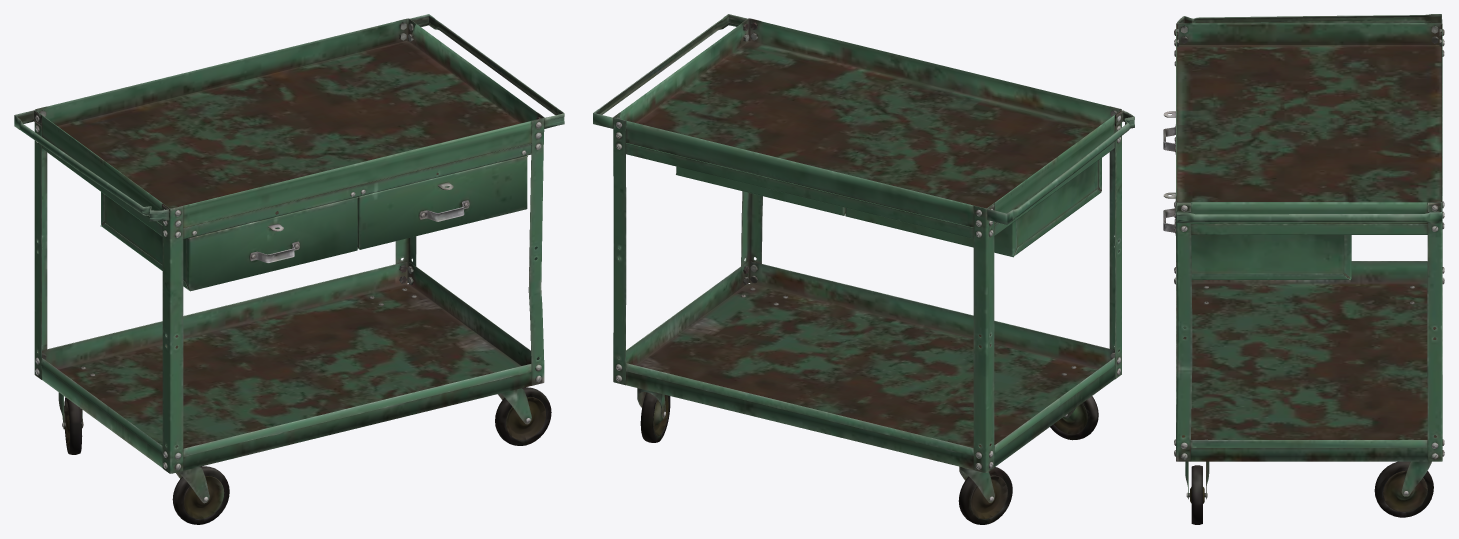
The model's file is tool_cart.glb.
3 views of the same model, side by side, from view 1: azimuth 30°, elevation 25°; view 2: azimuth 150°, elevation 25°; view 3: azimuth 270°, elevation 25° (orthographic). The views are drawn at different scales.
Parts seen in each view (by area): view 1: tool_cart; view 2: tool_cart; view 3: tool_cart.
Part boxes in pixels (bbox=[...]): tool_cart: bbox=[14, 14, 564, 524]; tool_cart: bbox=[593, 14, 1134, 524]; tool_cart: bbox=[1163, 14, 1444, 524].
Size of the model in its own units: 1.27 by 0.9647 by 0.7537.
Materials: 1 (1 with a texture image).
